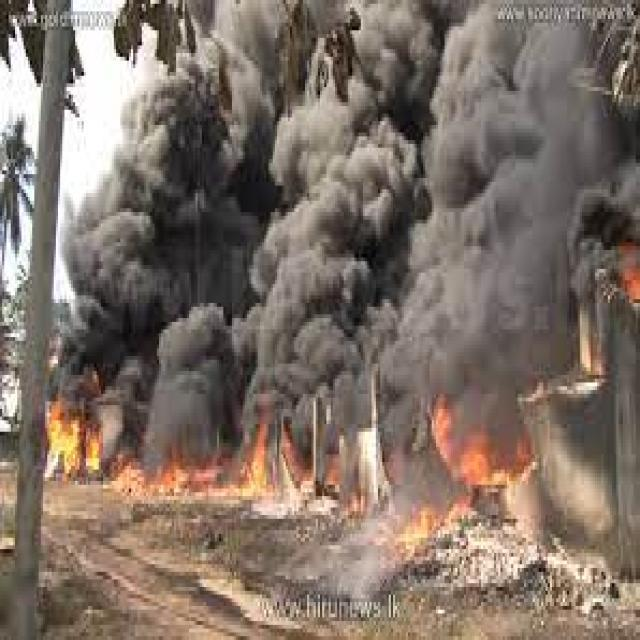Fire: (112, 434, 416, 534), (433, 405, 533, 546), (48, 423, 102, 481), (614, 246, 640, 322)
Smoke: (225, 0, 640, 348), (67, 140, 229, 408)
